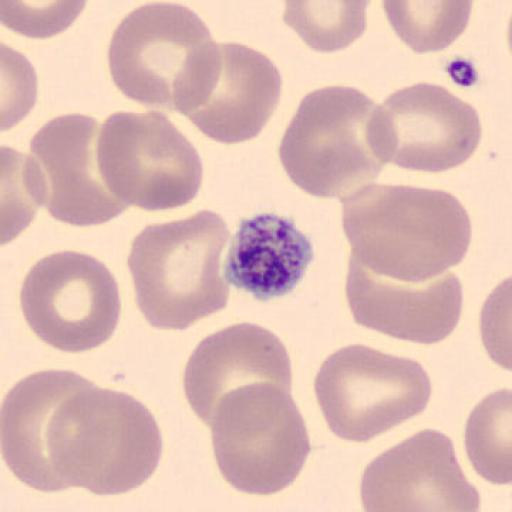Platelet: (220, 209, 318, 304)
RBC: (125, 207, 233, 333), (278, 81, 392, 200), (45, 385, 165, 498), (2, 366, 106, 496), (341, 182, 474, 283), (105, 0, 222, 113), (180, 321, 296, 429), (313, 342, 434, 444), (26, 111, 130, 229), (208, 380, 312, 497), (94, 107, 206, 213), (344, 250, 465, 346), (174, 40, 284, 145), (18, 248, 122, 356), (368, 80, 484, 175), (357, 427, 482, 512), (380, 0, 474, 55), (282, 0, 374, 54), (463, 385, 512, 486), (1, 143, 40, 246), (172, 43, 223, 115), (2, 0, 90, 41), (478, 272, 512, 375), (2, 42, 38, 133), (505, 0, 512, 83)
